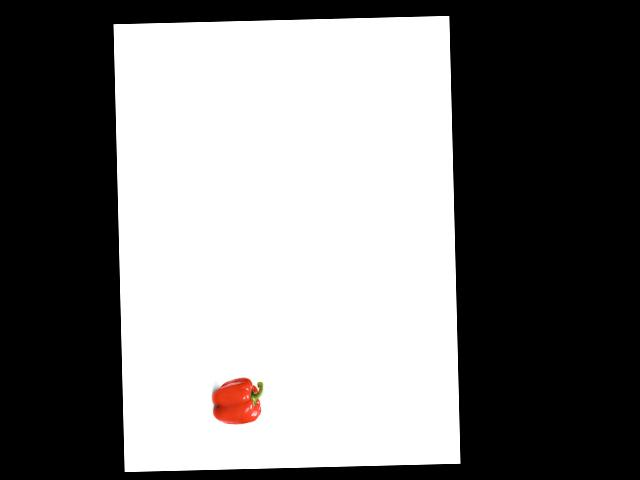bell_pepper: (210, 376, 265, 425)
